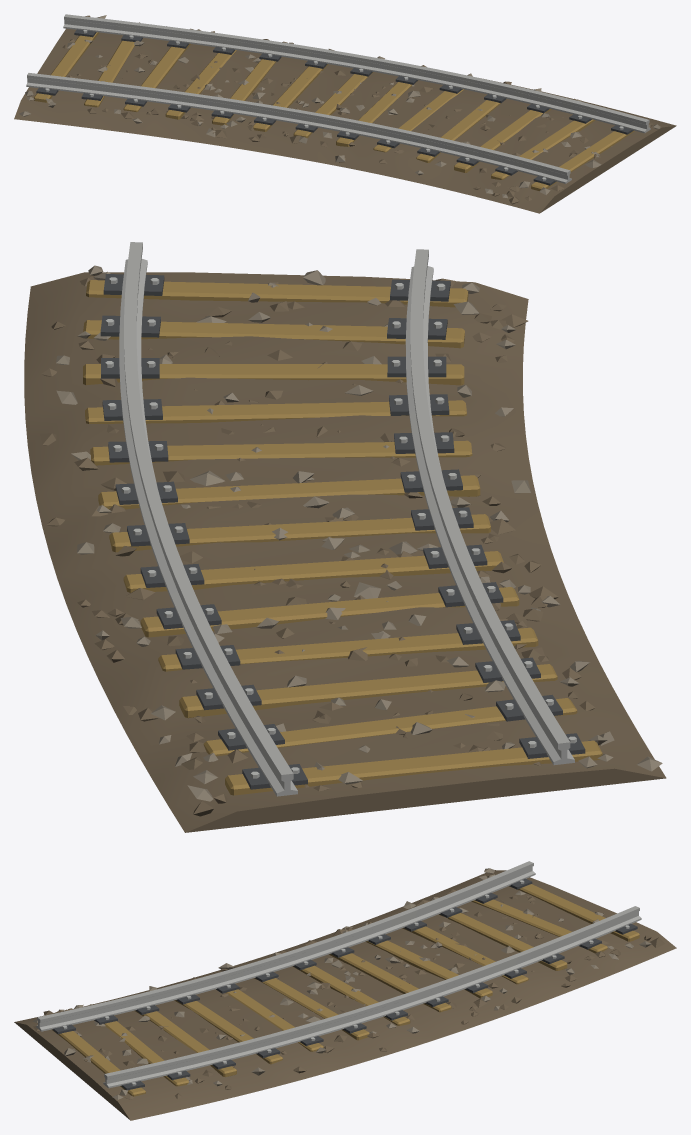
The model's file is curved-rail-b.glb.
The picture shows the model from 3 angles, top to bottom: view 1: azimuth 30°, elevation 25°; view 2: azimuth 150°, elevation 25°; view 3: azimuth 270°, elevation 25°; orthographic projection. The views are drawn at different scales.
Visible parts, largest first — view 1: body; view 2: body; view 3: body.
Boxes of the visible parts, x1=… form: body: x1=14, y1=14, x2=676, y2=213; body: x1=24, y1=242, x2=666, y2=832; body: x1=14, y1=861, x2=676, y2=1120.
Bounding box in the file's own units: 4.63 × 0.2226 × 5.18.
